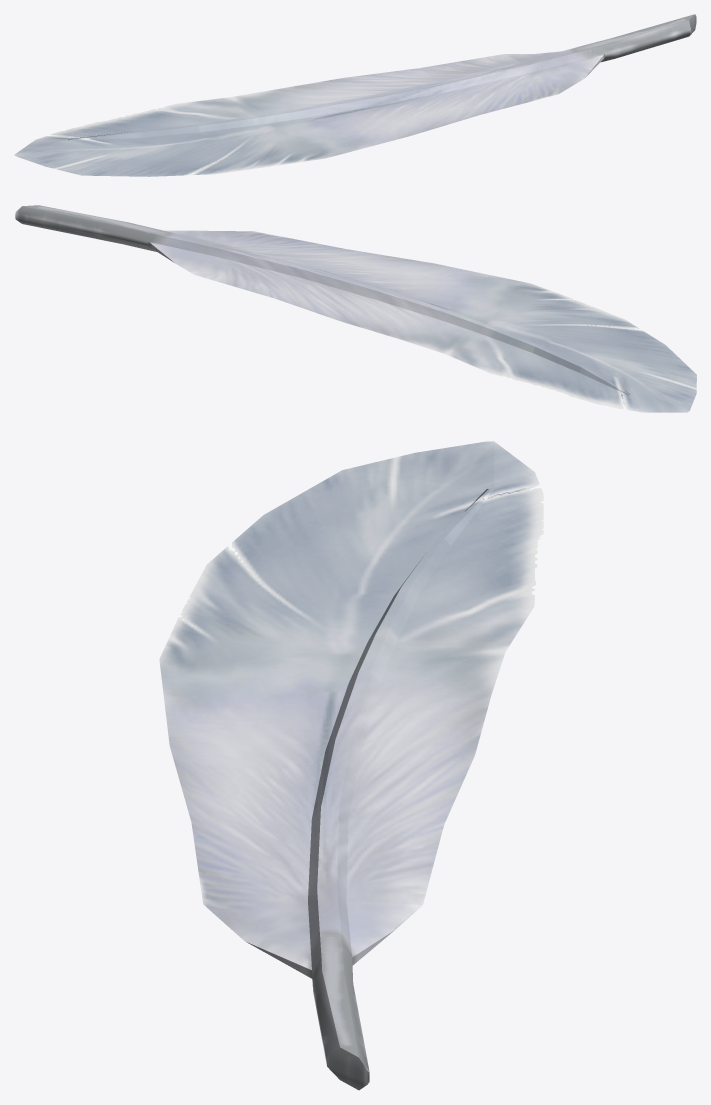
The model's file is Feather.fbx.
3 renders of one model, top to bottom at view 1: azimuth 30°, elevation 25°; view 2: azimuth 150°, elevation 25°; view 3: azimuth 270°, elevation 25°, orthographic. The views are drawn at different scales.
Visible parts, largest first — view 1: pCube1; view 2: pCube1; view 3: pCube1.
Part boxes in pixels (x1,y1,x2,y2): pCube1: (14, 14, 696, 176); pCube1: (15, 205, 696, 412); pCube1: (159, 441, 543, 1090).
Size of the model in its own units: 37.47 by 0.9026 by 9.76.
Materials: 1 (1 with a texture image).
